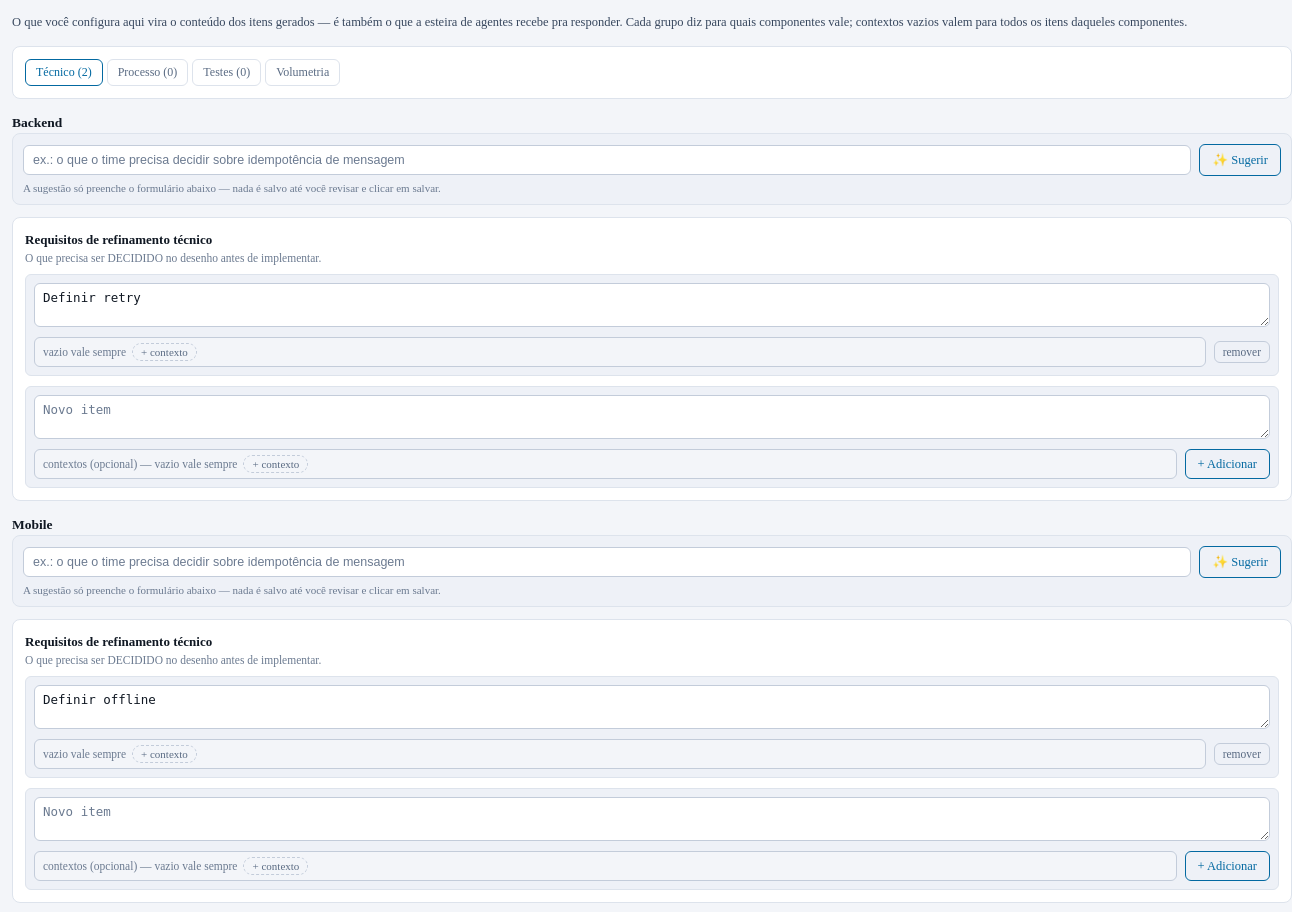
RegrasTab (SPEC-23 fluxo 5 — regras.json ganha tela) › o menu de contexto de um grupo só oferece os contextos DAQUELA tech
Expected: the element with test id "regras-grupo-Mobile" is shown, [12, 517, 1291, 903]
Step 1. Click the button with aria-label "Contextos do item 1: adicionar" → click(164, 754), box [132, 745, 197, 763]
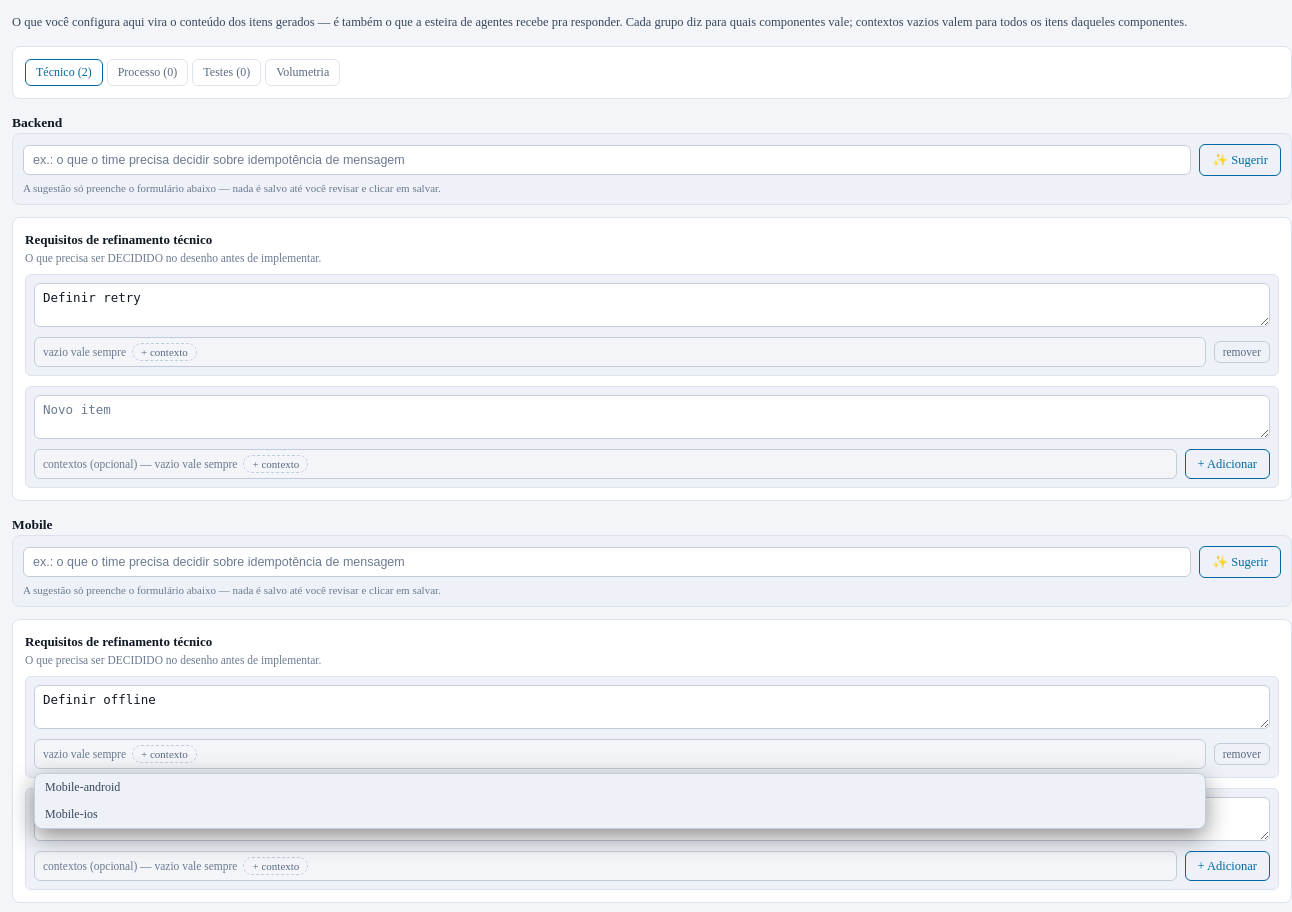
Expected: the options read "Mobile-android", "Mobile-ios", in this order, [35, 774, 1205, 801]; [35, 801, 1205, 828]
